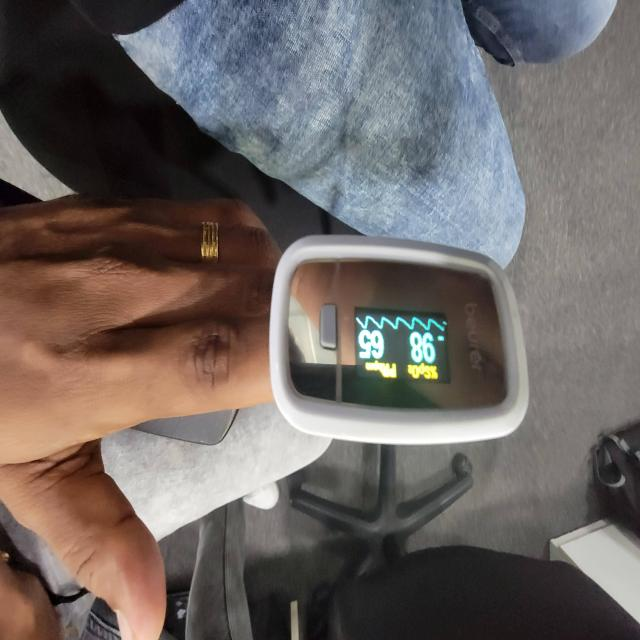spo2: (269, 235, 530, 448)
